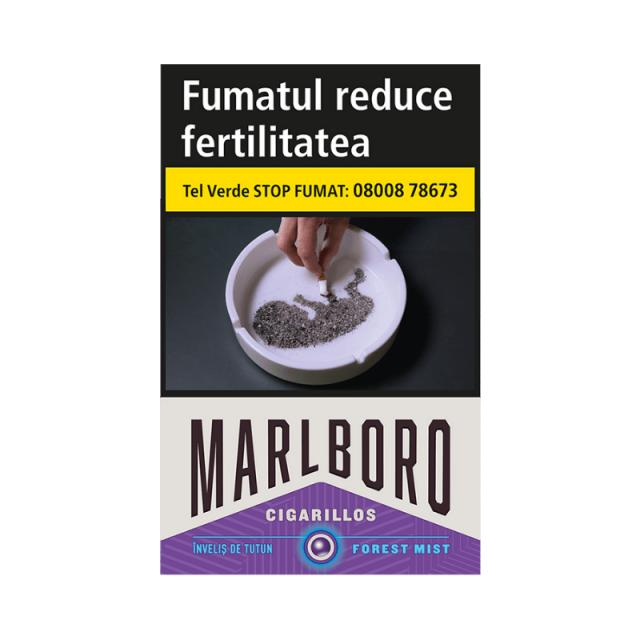marlboro: (150, 58, 494, 585)
